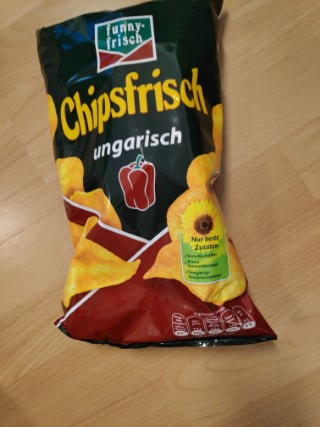chipsfrisch: (35, 1, 279, 350)
